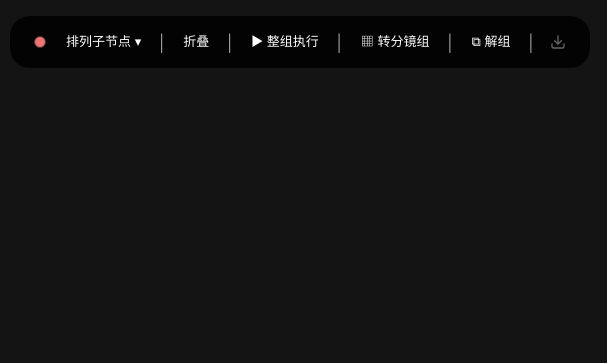
色板浮层（§4.3 listbox 规格） › 点击色点开浮层：7 色选项 + 默认，aria-selected 标当前色，选择即写色并收起
Click the button named "组颜色" at (40, 42), box [26,30,54,54]
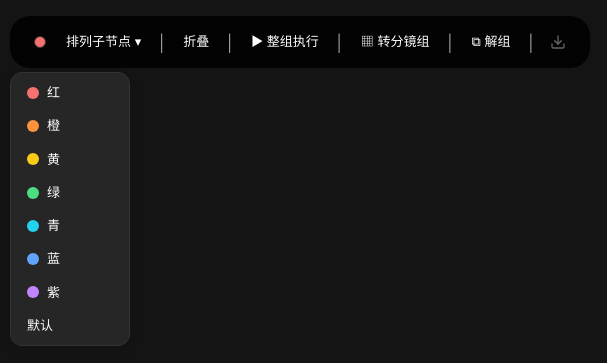
Click the option "蓝" at (70, 260), box [15,243,125,277]
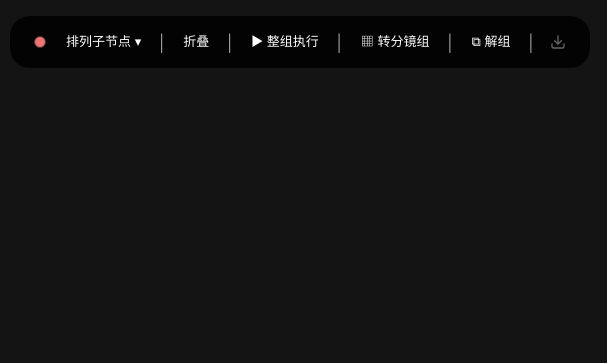
expect the list is gone: met
